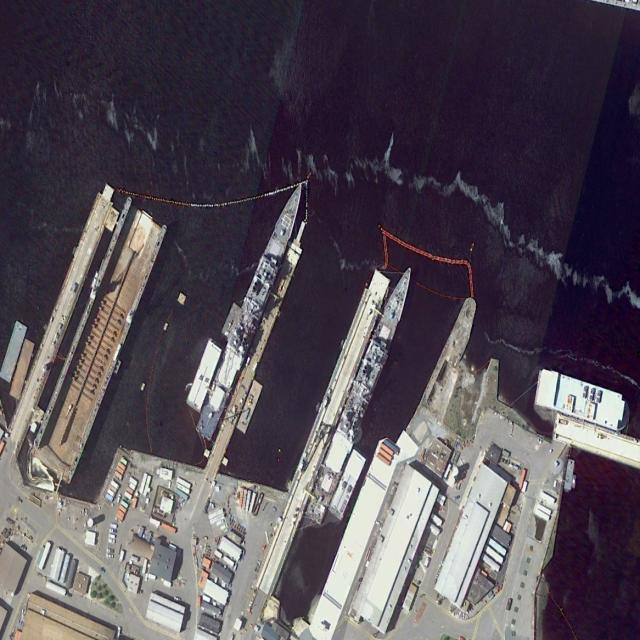Cruiser: (193, 175, 311, 446), (305, 257, 417, 528)
